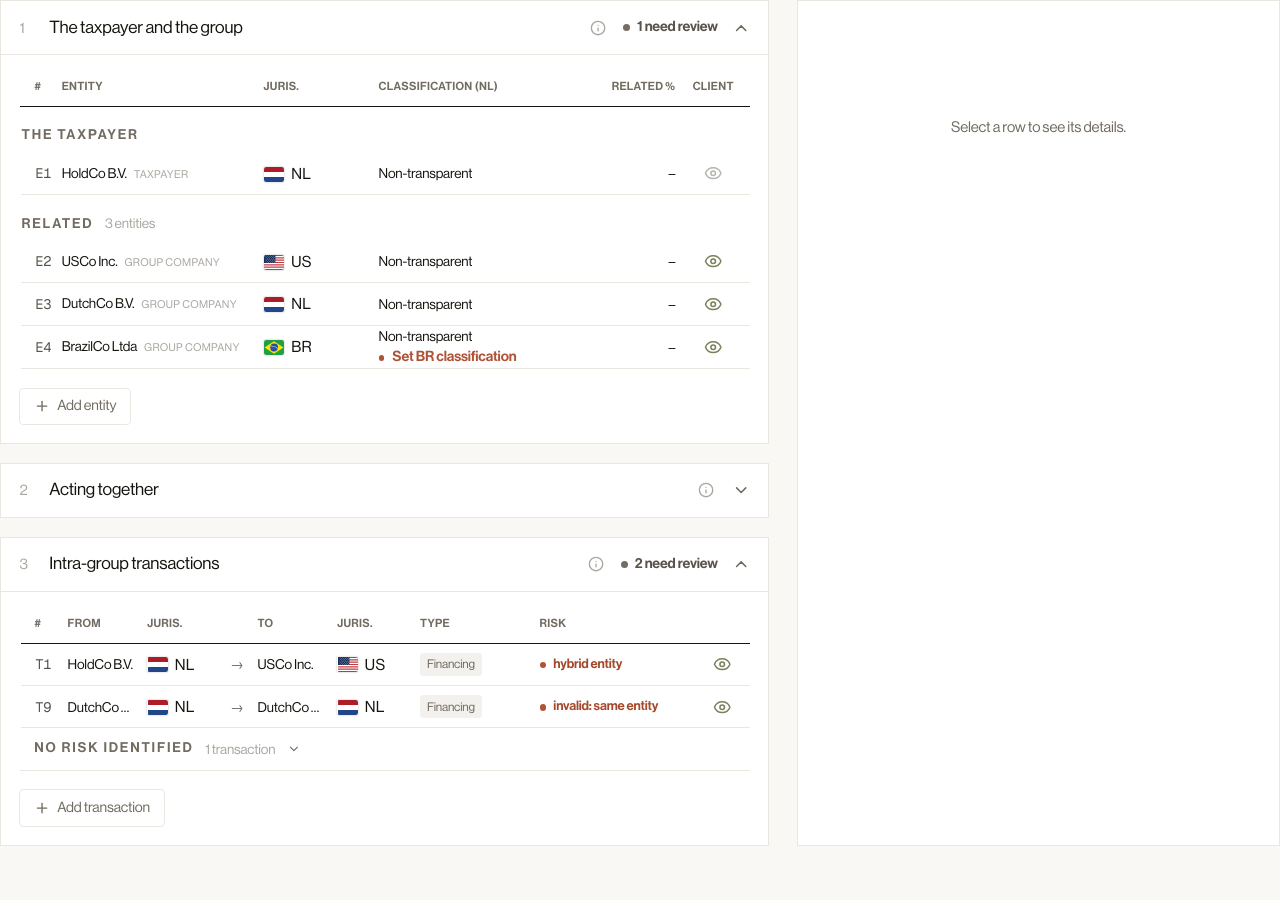
Scenario: FactsPanelV2 — resting state + master-detail (section 3) › surfaces a self-transaction as a data issue and fixes it from the panel
// Its panel names the issue and offers the counterparty fix.
Click the text "invalid: same entity": coordinates (599, 707) [540,698,658,717]
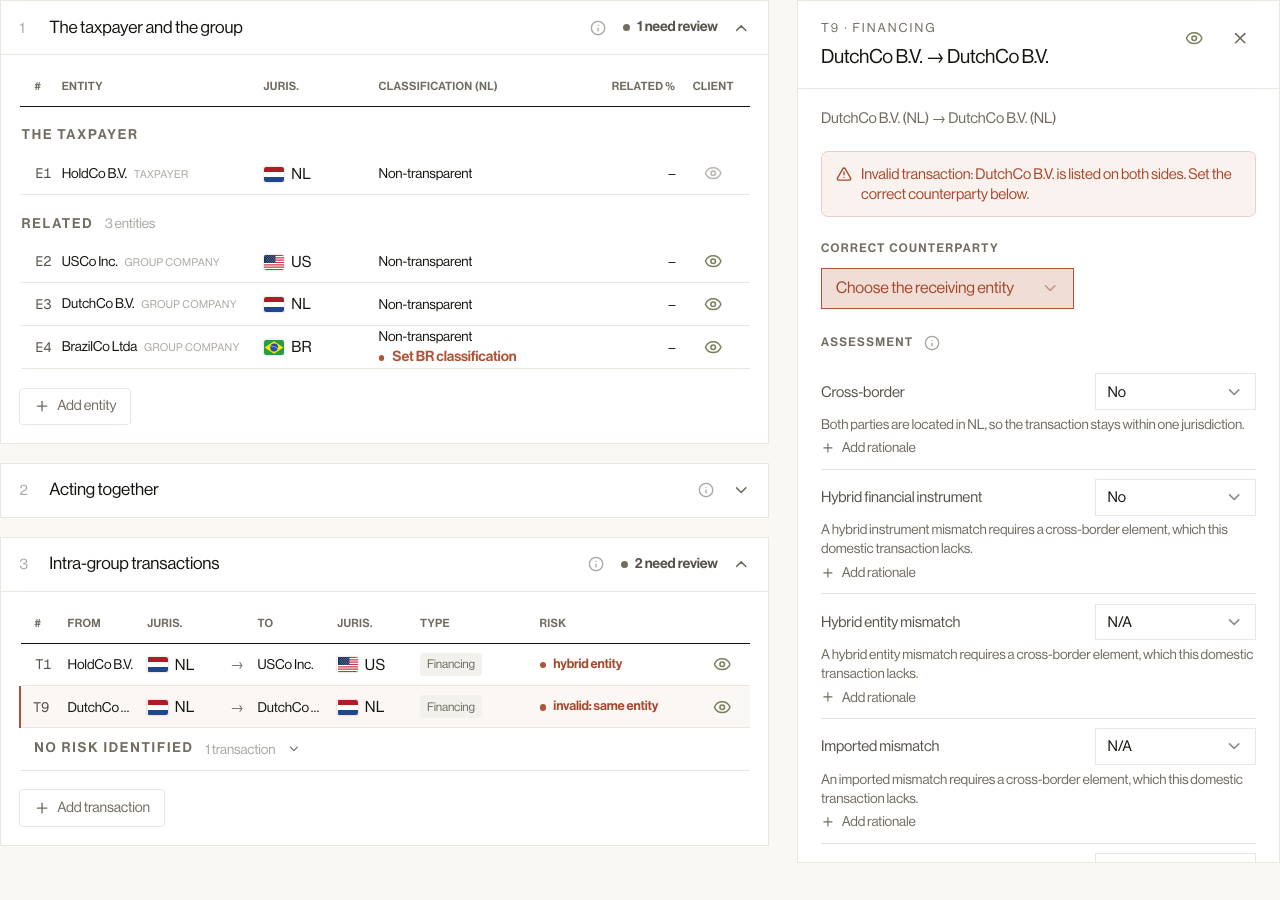
Expected: the text "listed on both sides" is shown, [861,165,1232,202]
Expected: the dropdown named "Correct counterparty" is shown, [821,268,1074,309]
